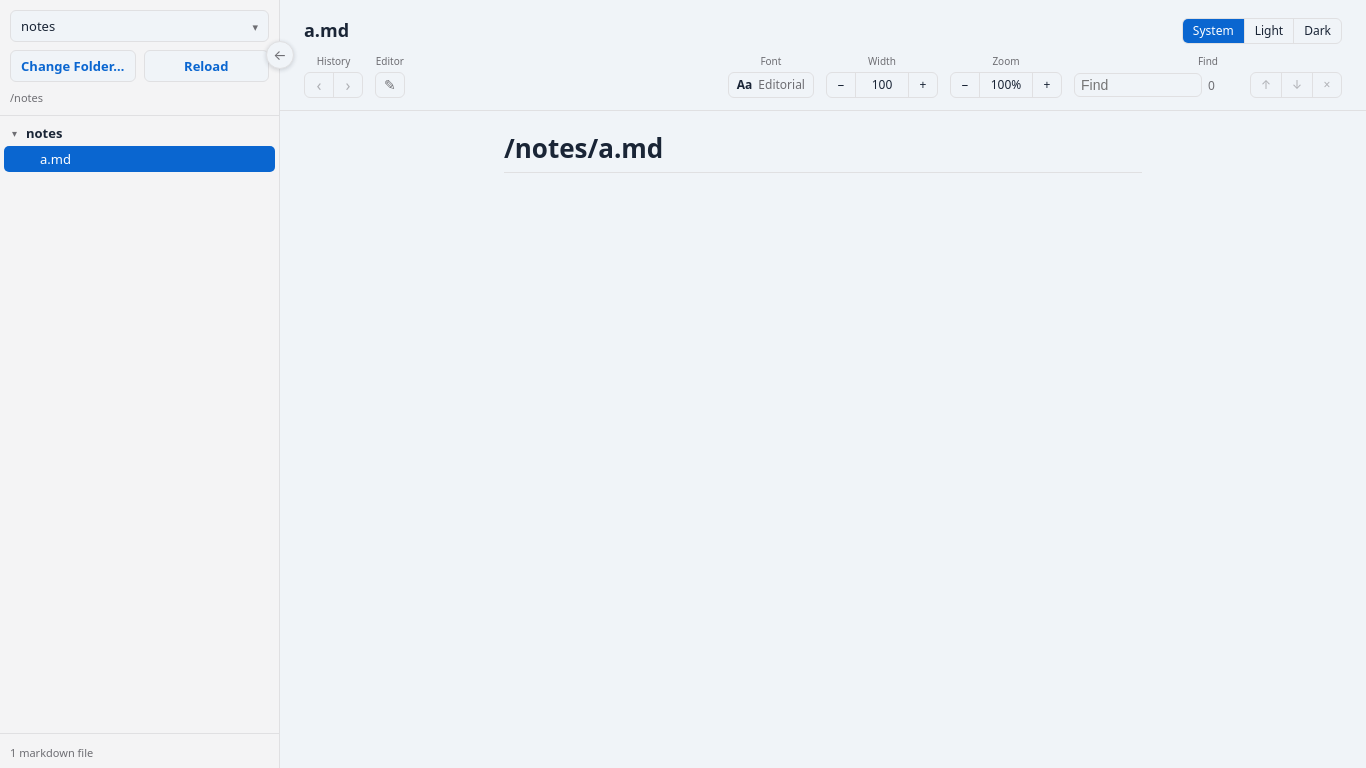
Test: puts the menu above Change Folder and opens the folder you pick
Click the button with aria-label "Recent folders": (140, 26) [10,10,269,42]
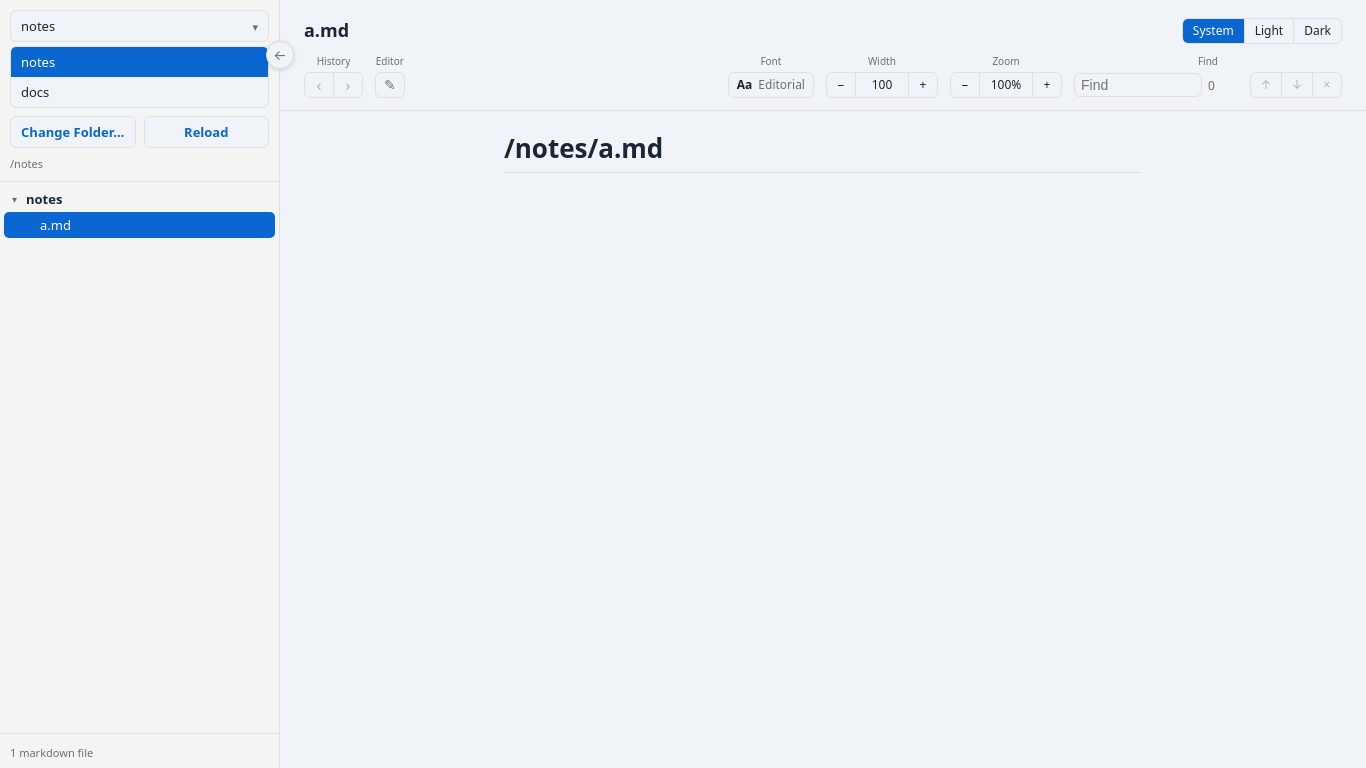
Click the menu item with aria-label "/docs": (140, 92) [11,77,268,107]
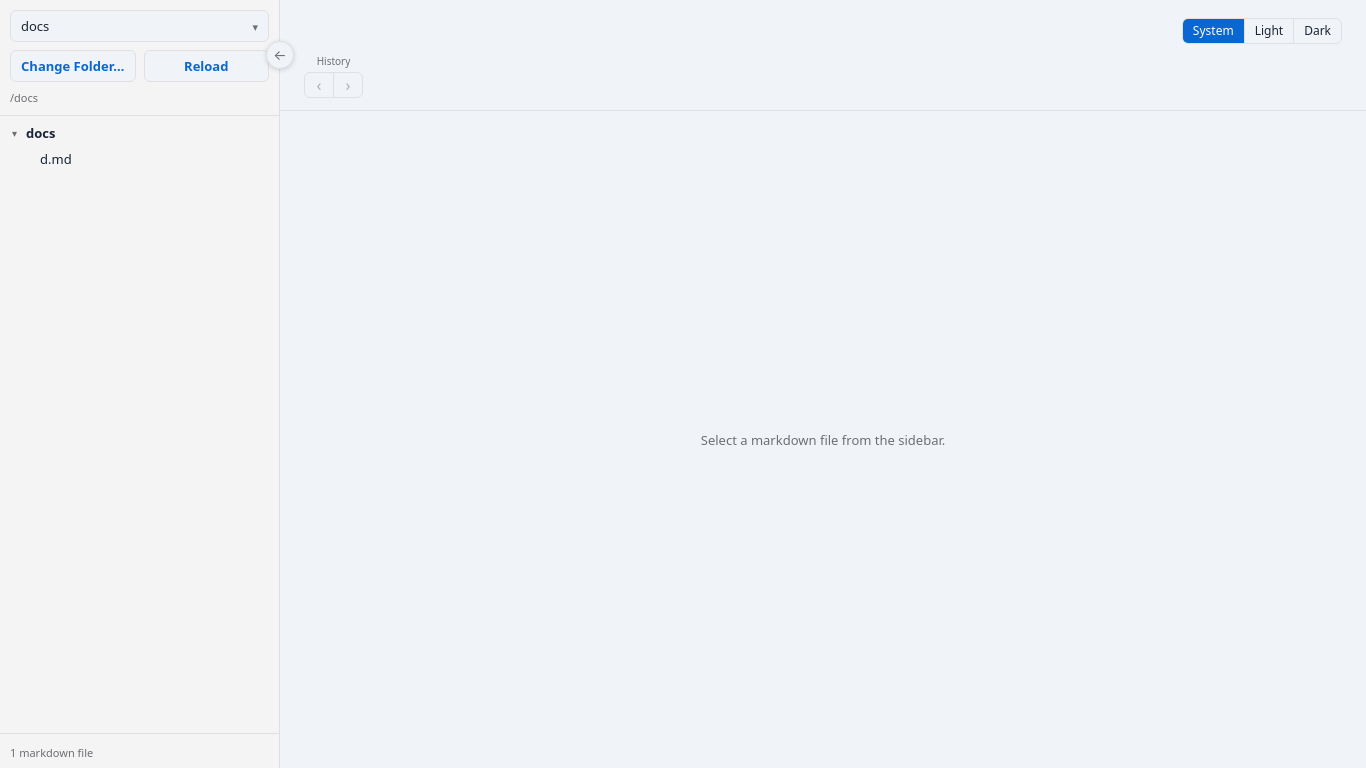
expect the list item "d.md" is shown: met, box [4,146,275,172]
expect the list item "a.md" is gone: met
